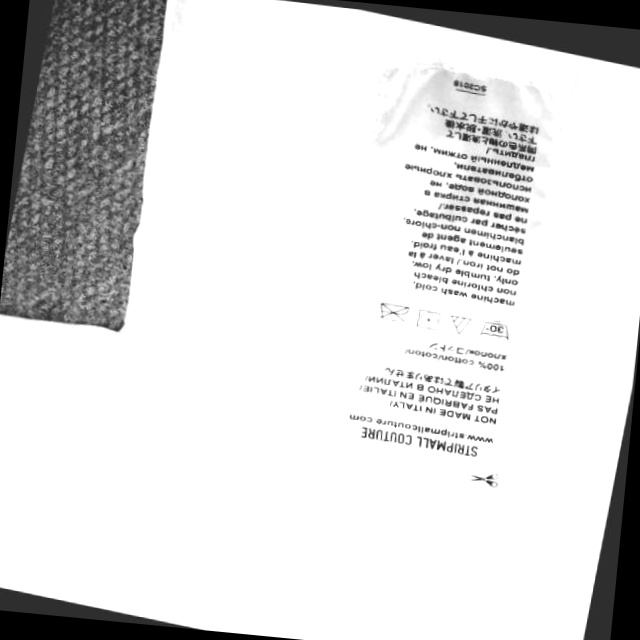30C: (478, 317, 515, 341)
DN_iron: (373, 299, 410, 328)
non_chlorine_bleach: (447, 313, 474, 336)
tumble_dry_low: (414, 307, 448, 331)
